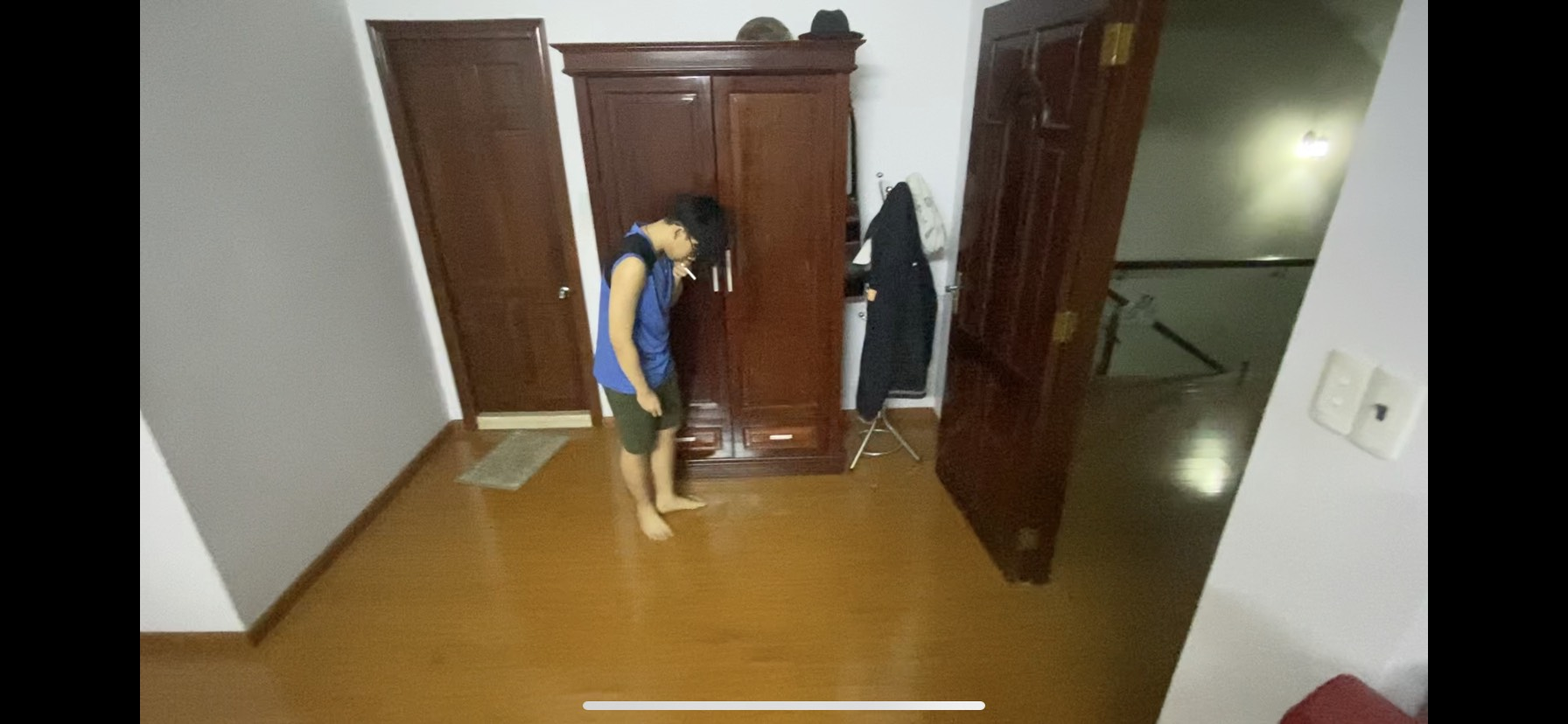person: (589, 189, 746, 555), (685, 262, 701, 282)
